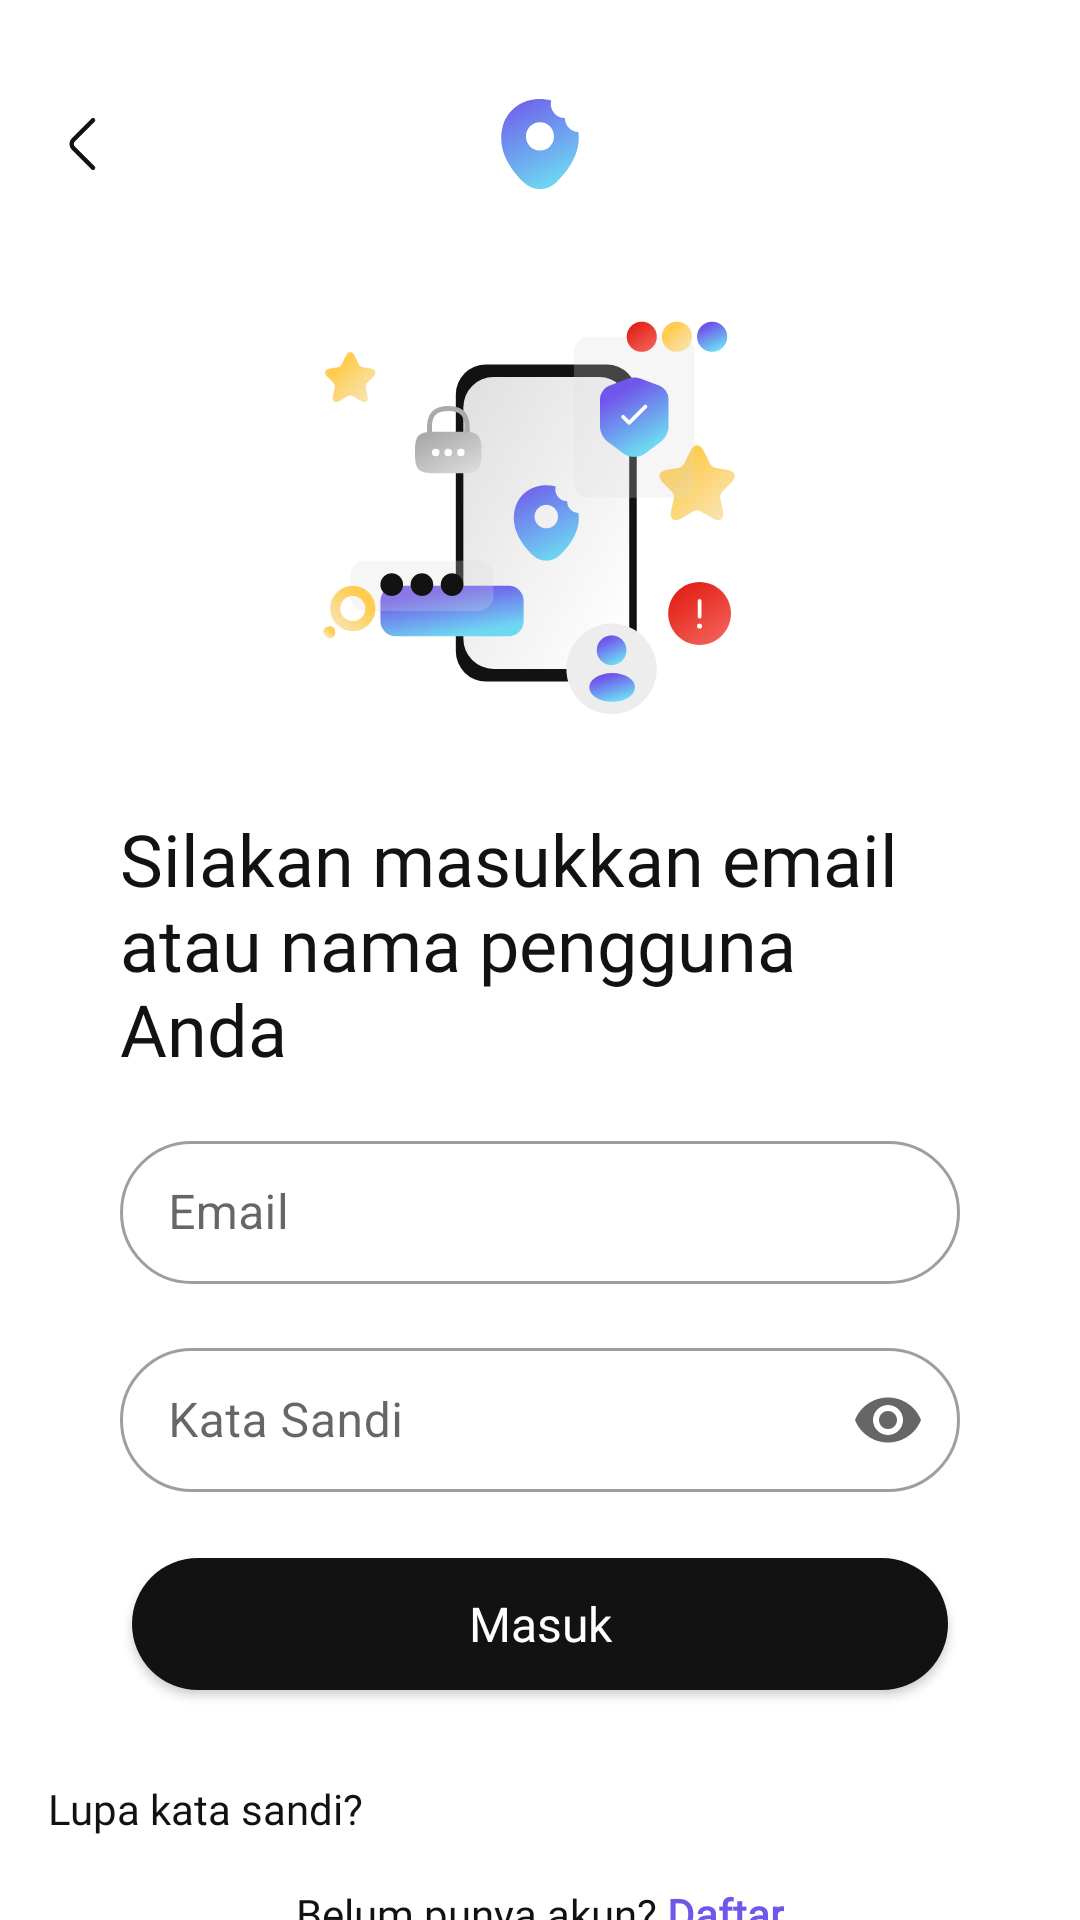

Icons on this 1080px x 1920px Android screen, each with the point to tap as point (x, y):
arrow left: point (82, 144)
